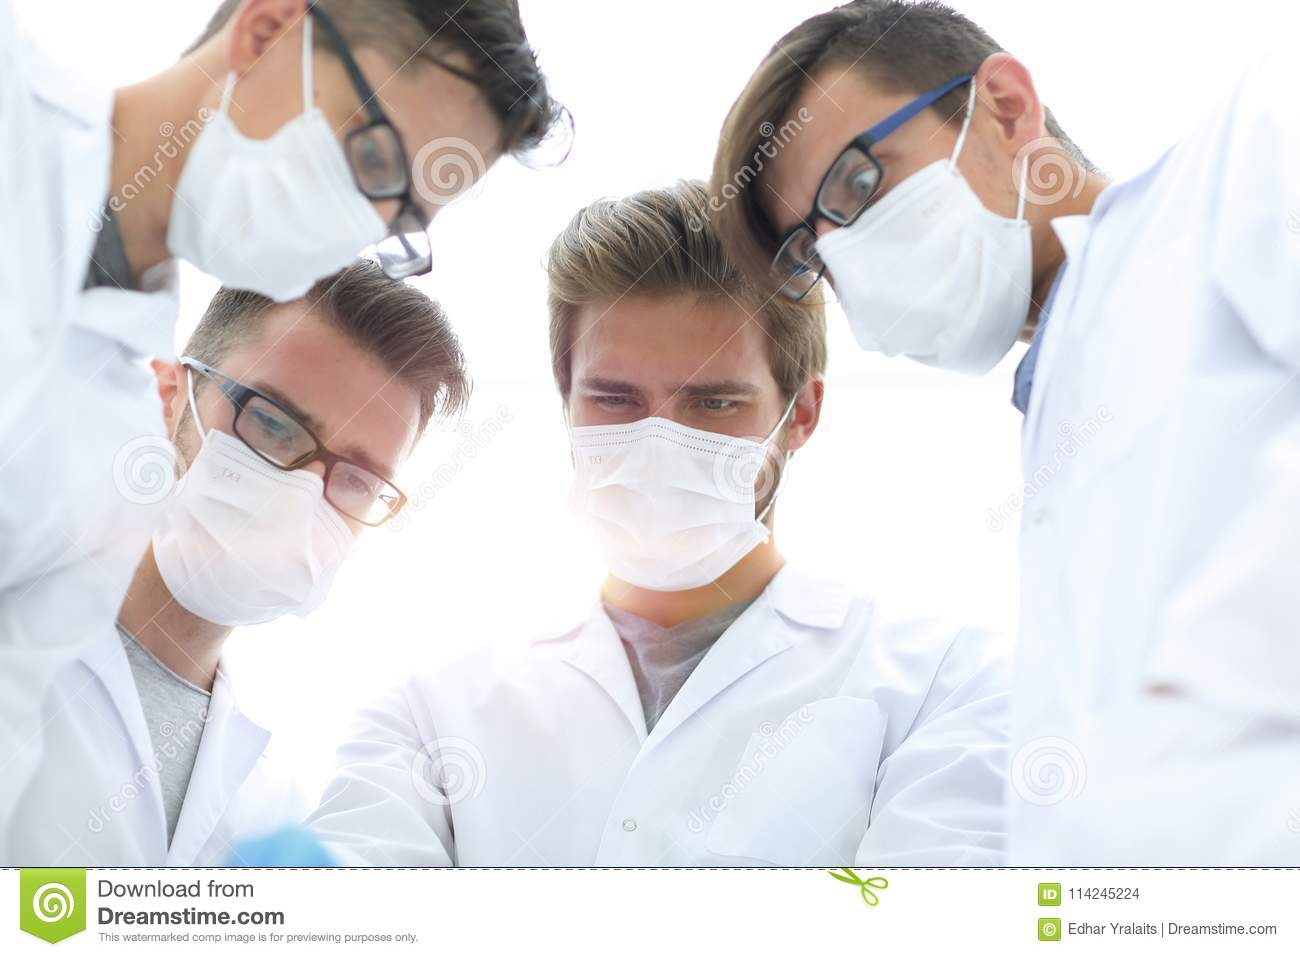mask: (804, 179, 1042, 382), (554, 410, 782, 589), (178, 129, 388, 320), (157, 444, 350, 641)
